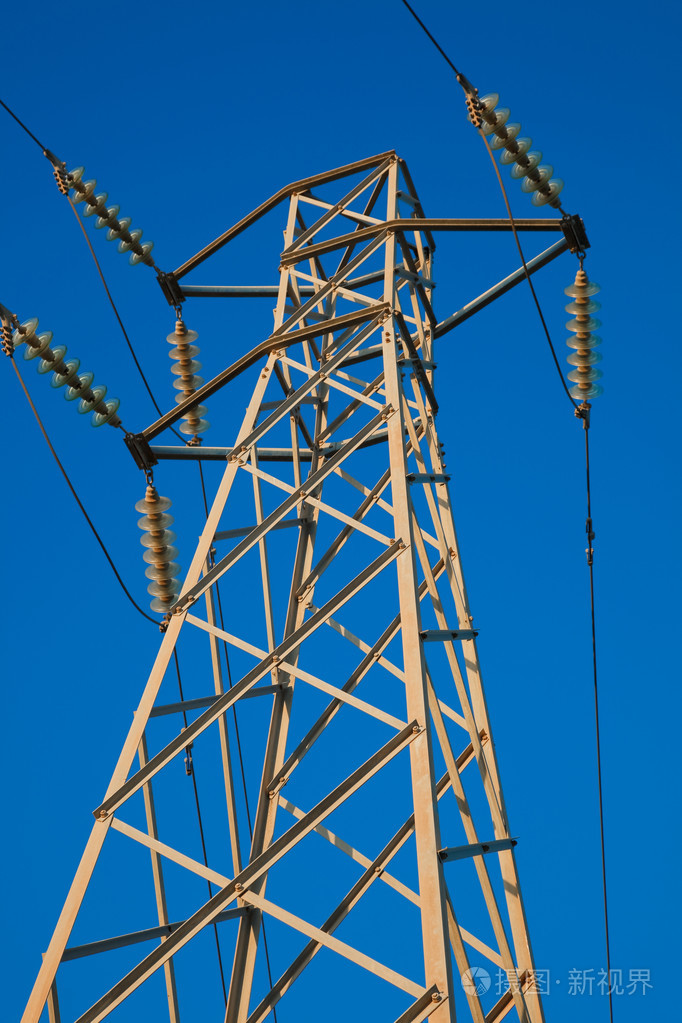insulator: (15, 314, 119, 425), (478, 94, 566, 204), (66, 169, 158, 268), (135, 492, 181, 612), (560, 278, 604, 400), (167, 326, 212, 437)
